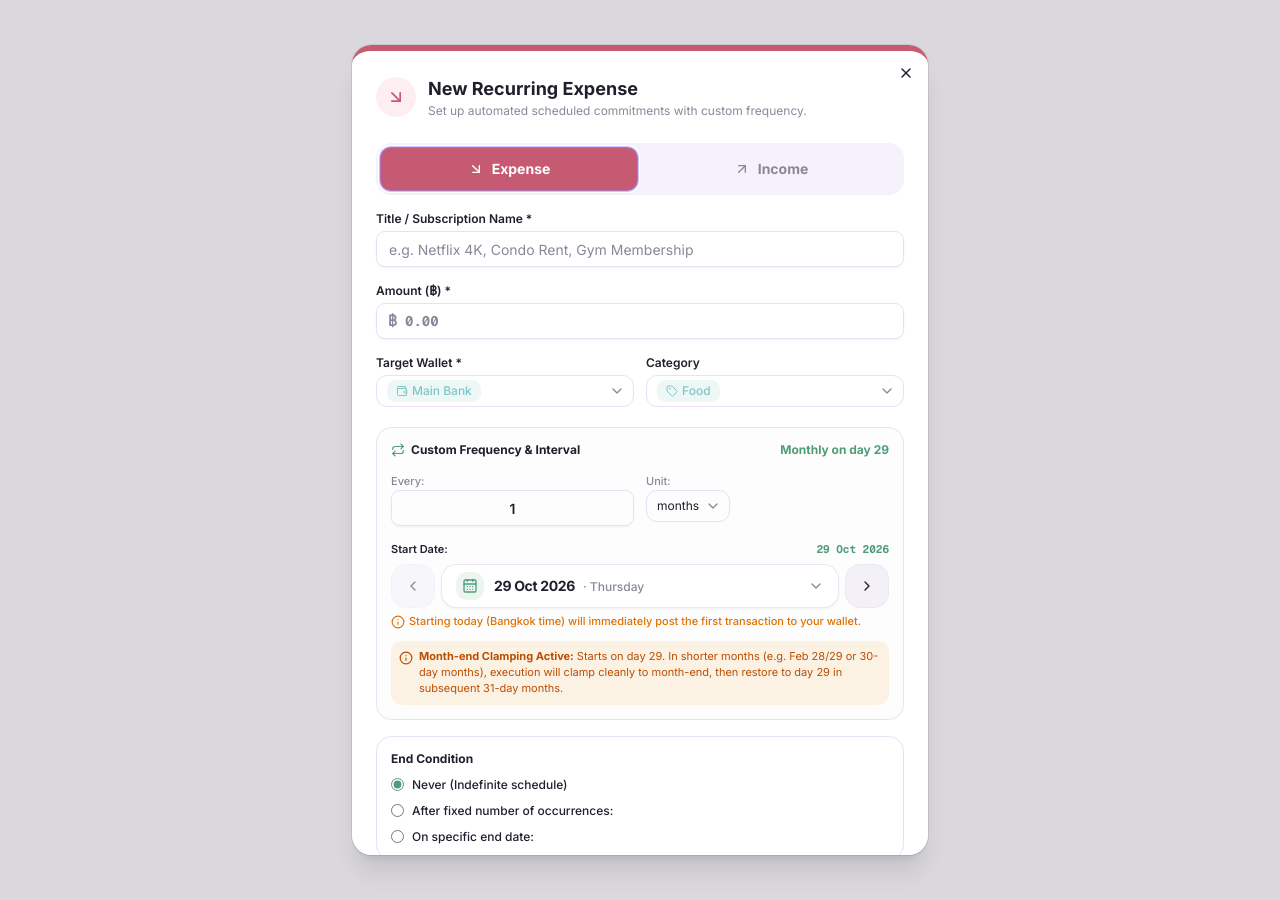
Test: CreateRuleModal (US4-1) › validates that frequency interval cannot be empty
Type "Test Rule" into the field labelled "Title / Subscription Name *".
click(640, 249); type("Test Rule")  # box x1=376 y1=231 x2=904 y2=267
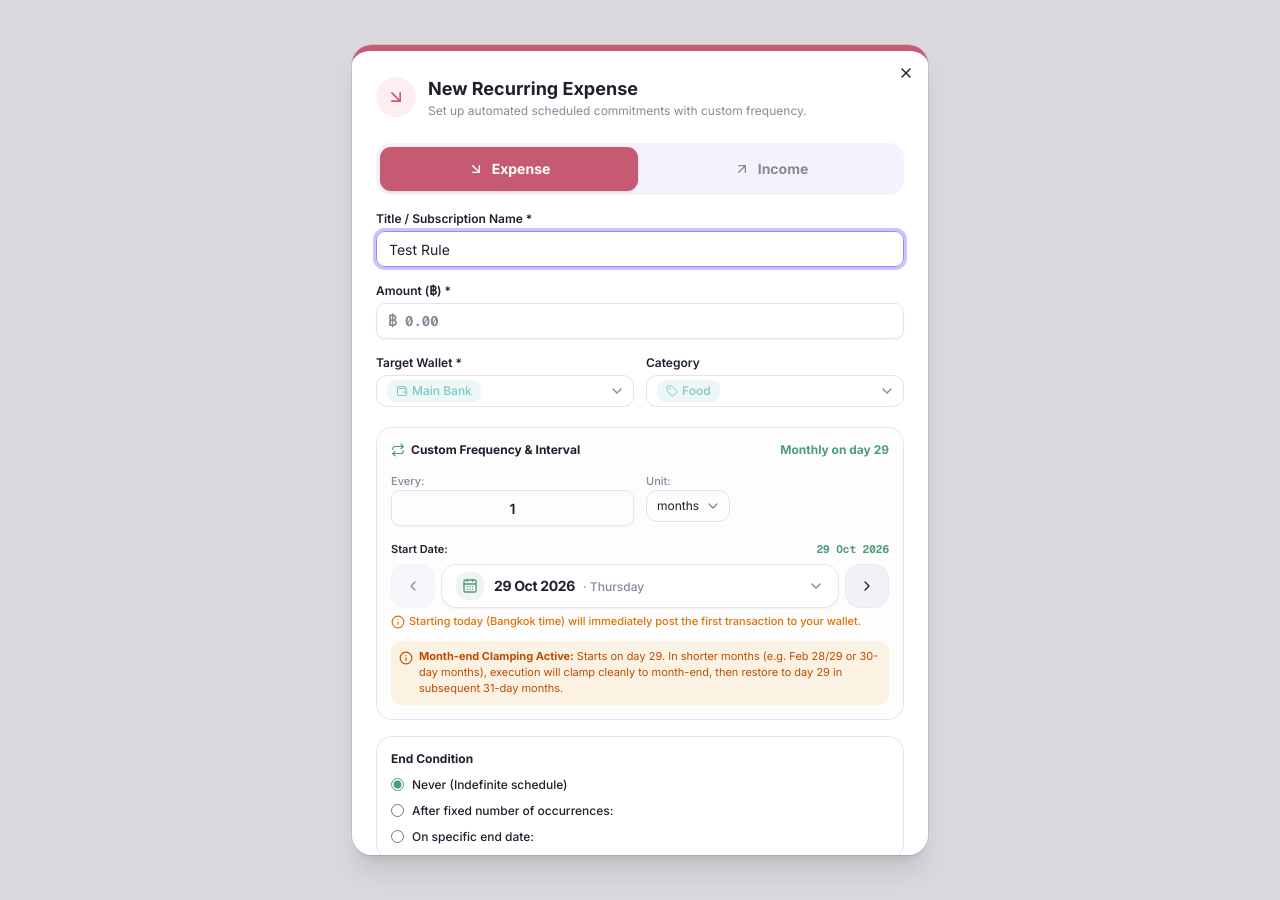
Type "100" into the number field labelled "Amount (฿) *".
click(640, 321); type("100")  # box x1=376 y1=303 x2=904 y2=339
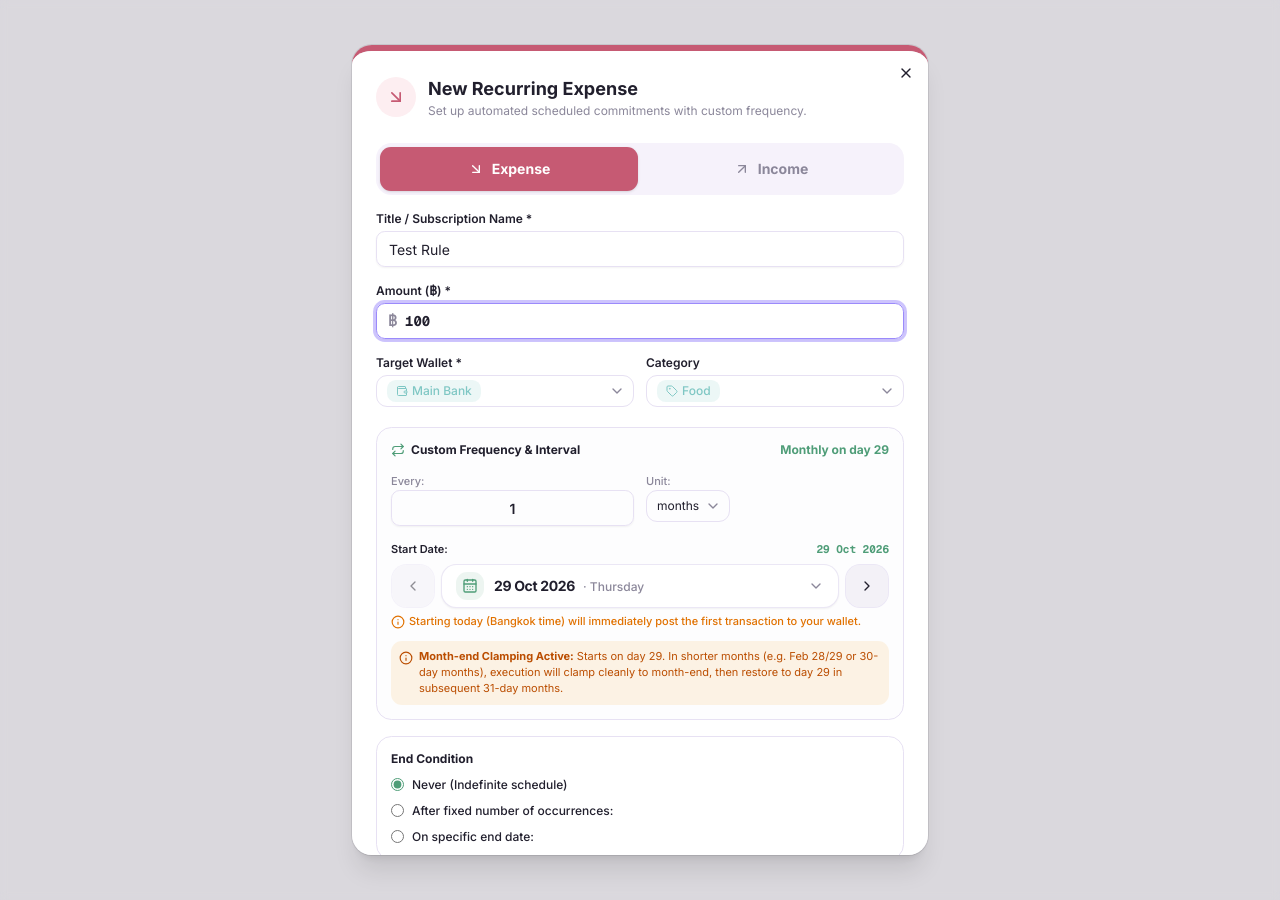
// Empty interval count
Clear the field named "Interval count" at [512, 508], box x1=391 y1=490 x2=634 y2=526
(page scrolled)
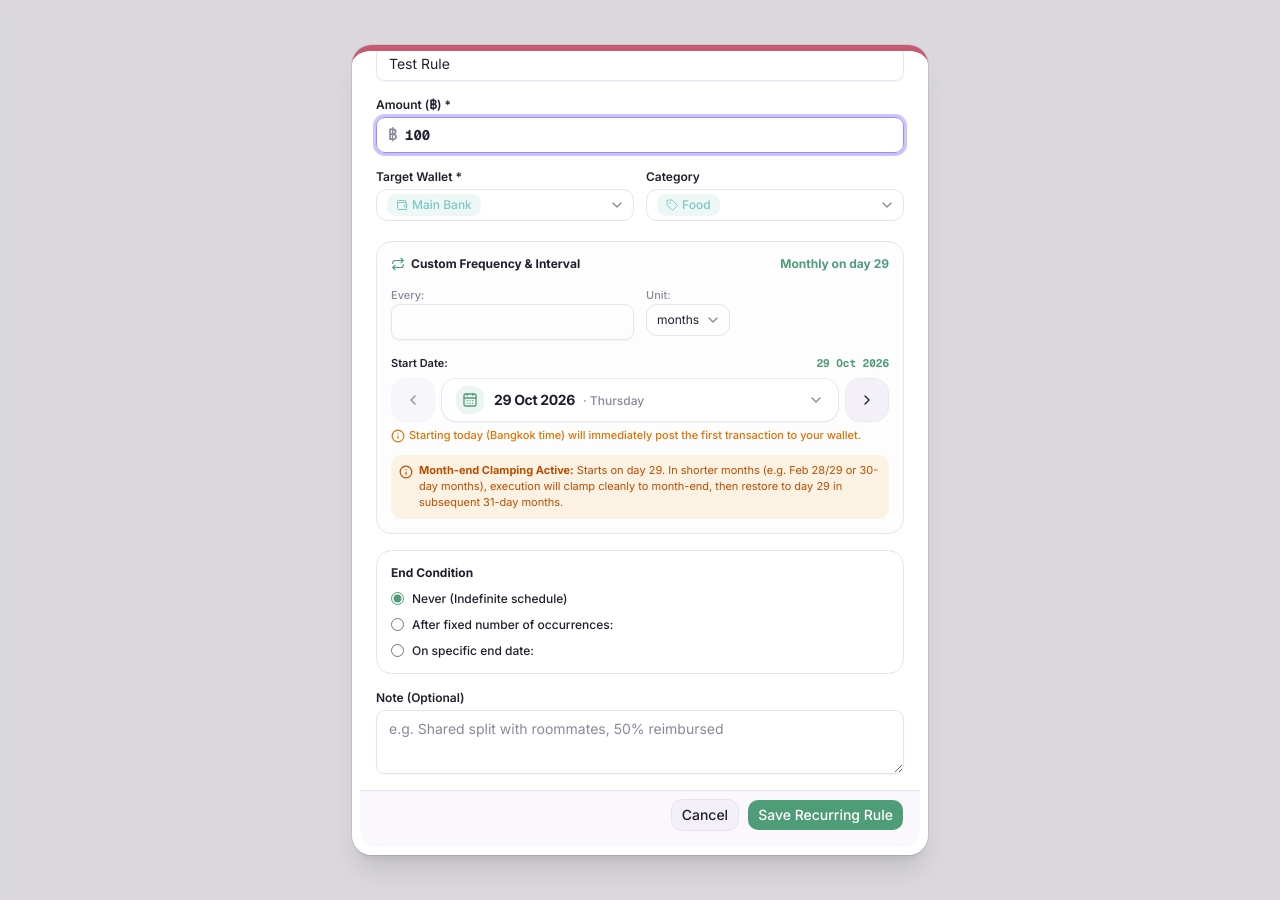
Click the button "Save Recurring Rule".
click(826, 814)  # box x1=747 y1=798 x2=904 y2=830
(page scrolled)
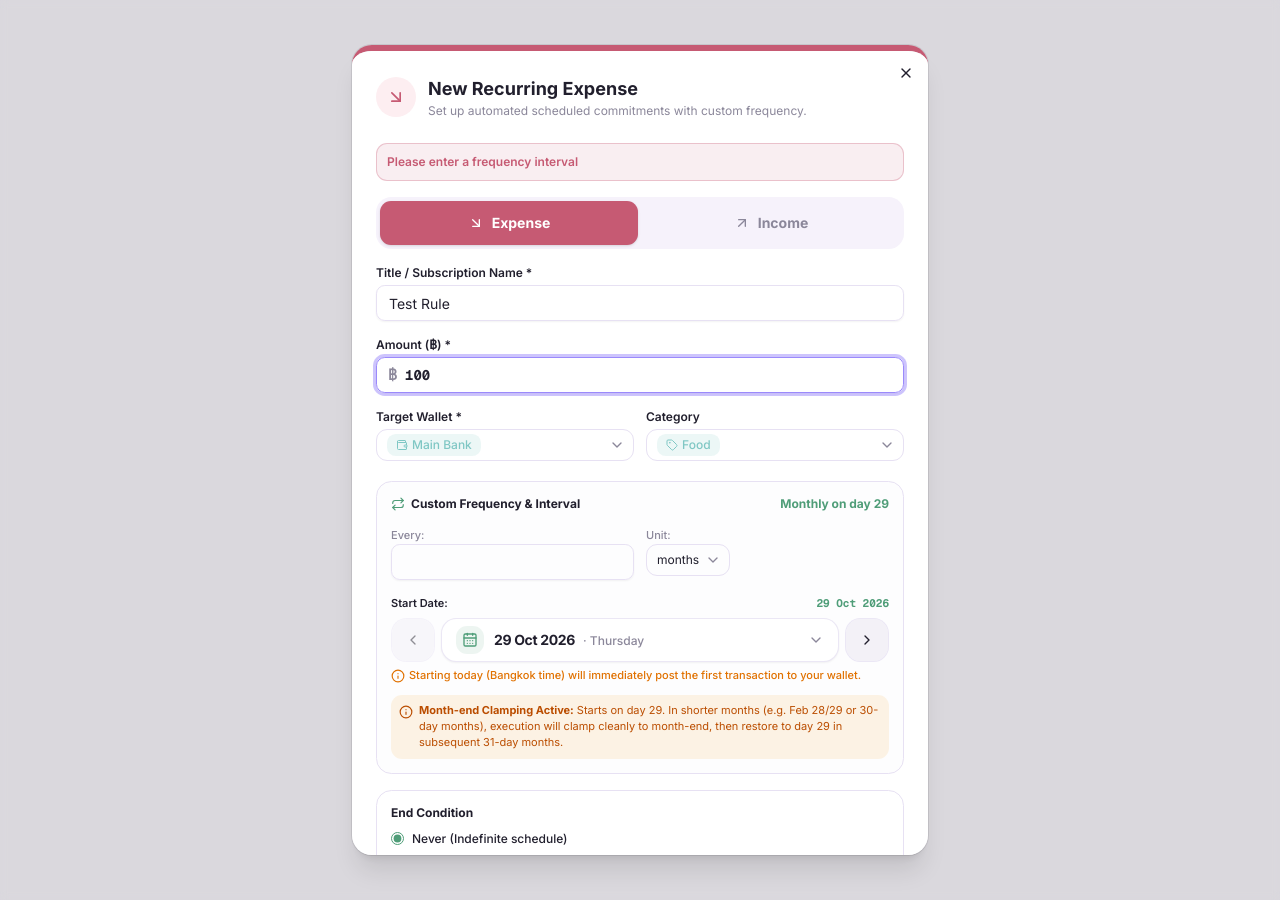
Expected: the text "Please enter a frequency interval" is shown, x1=376 y1=143 x2=904 y2=181
